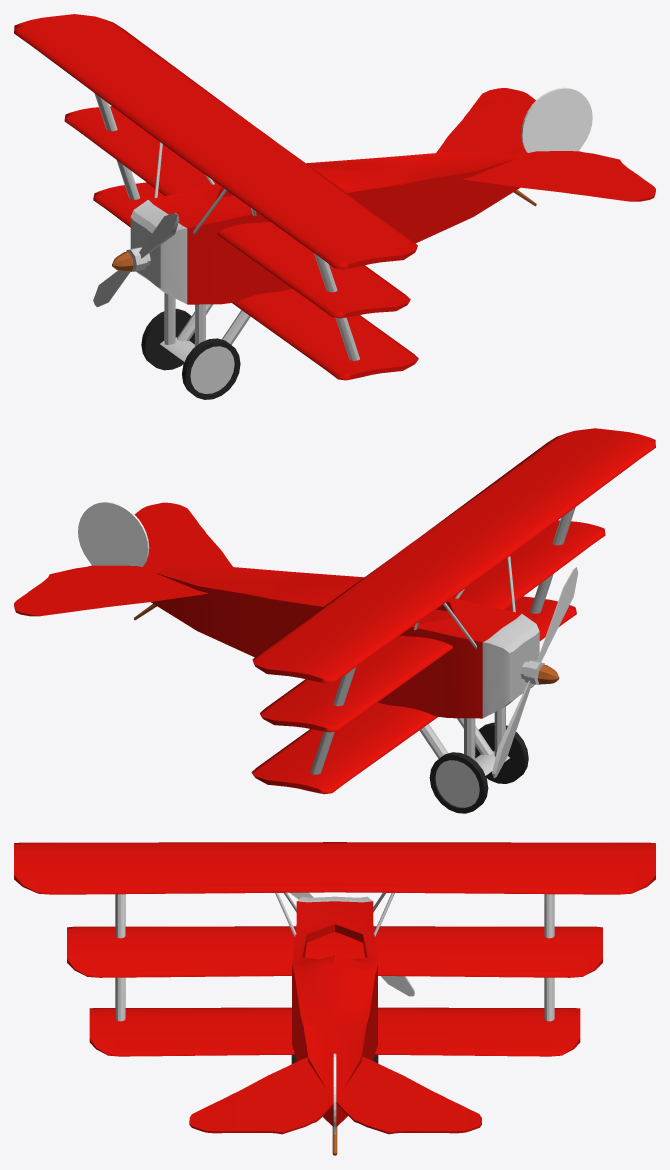
The model's file is FokkerDR1-RedBaron.fbx.
3 renders of one model, top to bottom at view 1: azimuth 30°, elevation 25°; view 2: azimuth 150°, elevation 25°; view 3: azimuth 270°, elevation 25°, orthographic. The views are drawn at different scales.
Visible parts, largest first — view 1: Fokker.DR1, Wings top, Wings mid, TailWing, Wings bot, Propellor; view 2: Fokker.DR1, Wings top, Wings mid, TailWing, Wings bot, Propellor; view 3: Wings top, Wings mid, Wings bot, Fokker.DR1, TailWing, Propellor.
Boxes of the visible parts, x1,y1,x2,y2 form: Fokker.DR1: (94, 87, 592, 399); Wings top: (14, 14, 417, 269); Wings mid: (64, 106, 410, 318); TailWing: (436, 88, 655, 201); Wings bot: (93, 182, 418, 380); Propellor: (93, 212, 179, 307); Fokker.DR1: (78, 501, 575, 813); Wings top: (252, 428, 655, 683); Wings mid: (260, 520, 605, 732); TailWing: (14, 502, 232, 616); Wings bot: (251, 596, 576, 794); Propellor: (492, 567, 578, 777); Wings top: (14, 842, 655, 894); Wings mid: (67, 926, 602, 977); Wings bot: (89, 1007, 580, 1056); Fokker.DR1: (115, 892, 554, 1155); TailWing: (189, 1057, 481, 1134); Propellor: (289, 892, 414, 996).
Size of the model in its own units: 570 by 273 by 675.
